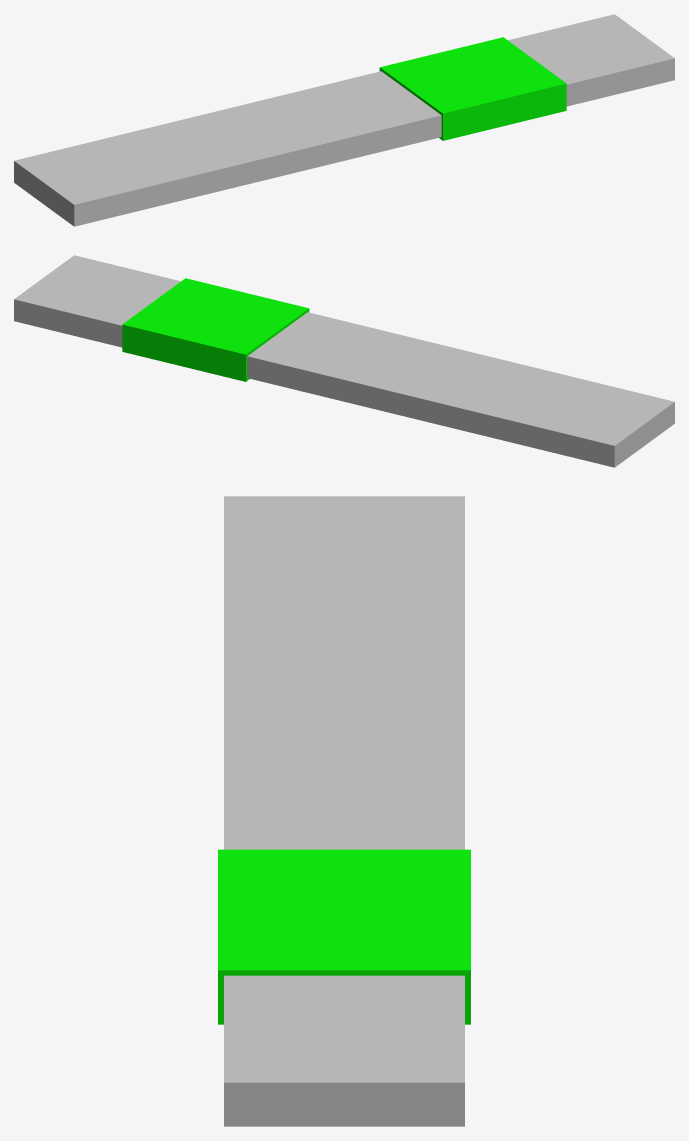
The model's file is RolledSilver.fbx.
The picture shows the model from 3 angles, top to bottom: view 1: azimuth 30°, elevation 25°; view 2: azimuth 150°, elevation 25°; view 3: azimuth 270°, elevation 25°; orthographic projection. The views are drawn at different scales.
Parts seen in each view (by area): view 1: BigPart, Marker, SmallPart; view 2: BigPart, Marker, SmallPart; view 3: BigPart, SmallPart, Marker.
Boxes of the visible parts, x1,y1,x2,y2 form: BigPart: (14,71,441,226); Marker: (379,37,566,140); SmallPart: (508,14,674,106); BigPart: (247,312,674,467); Marker: (122,278,309,381); SmallPart: (14,255,180,347); BigPart: (224,496,464,849); SmallPart: (224,975,464,1126); Marker: (218,849,470,1024).
Size of the model in its own units: 1151 by 50 by 210.
